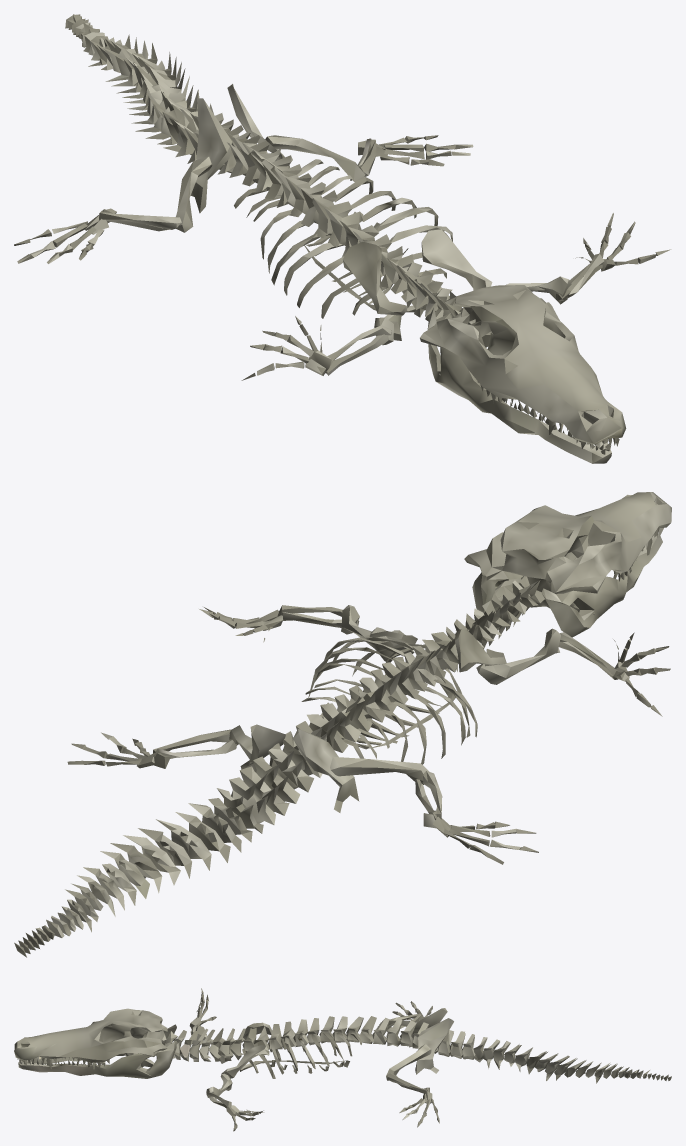
The model's file is crocodile.glb.
3 views of the same model, one above another, from view 1: azimuth 30°, elevation 25°; view 2: azimuth 150°, elevation 25°; view 3: azimuth 270°, elevation 25° (orthographic). The views are drawn at different scales.
Parts seen in each view (by area): view 1: crocodile; view 2: crocodile; view 3: crocodile.
Part boxes in pixels (x1=…): crocodile: x1=14, y1=14, x2=671, y2=463; crocodile: x1=14, y1=492, x2=671, y2=957; crocodile: x1=14, y1=988, x2=671, y2=1131.
Bounding box in the file's own units: 0.4855 × 0.1012 × 0.9987.
1 material, 1 textured.
